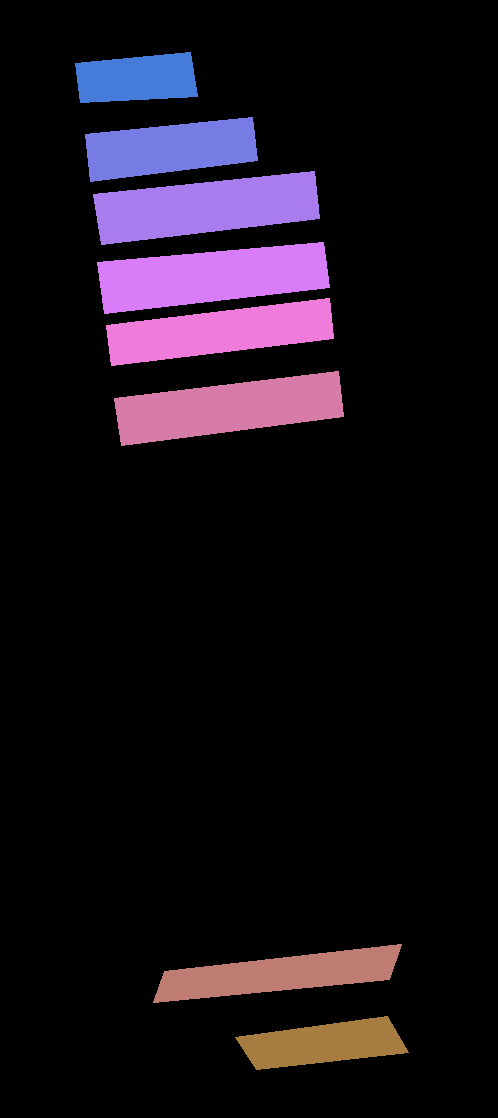parkingspot: (114, 370, 344, 445), (93, 170, 320, 244), (97, 241, 330, 313), (106, 297, 334, 365), (153, 943, 402, 1002), (85, 116, 258, 181), (235, 1015, 409, 1069), (75, 51, 198, 102)
